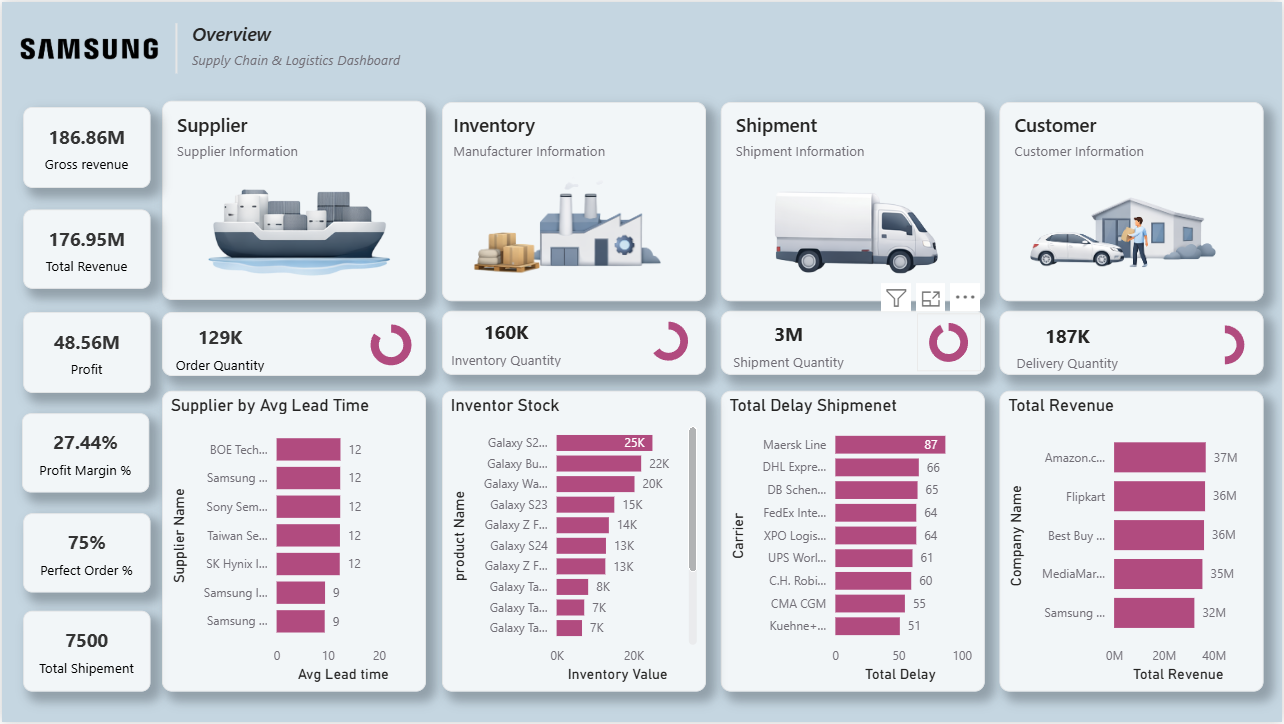

The dashboard page shown, as its layout file describes it:
{"tool":"powerbi","page":{"name":"Page 1","canvas":[1280,720],"ordinal":0},"visuals":[{"type":"shape","box":[160.2,99,264.1,199.3],"z":0},{"type":"shape","box":[440.2,100.3,264.1,199.3],"z":1000},{"type":"shape","box":[719,100.3,264.1,199.3],"z":2000},{"type":"shape","box":[997.8,100.3,264.1,199.3],"z":3000},{"type":"image","box":[185.9,159,212.8,122.3],"z":4000},{"type":"image","box":[451.2,146.7,215.2,148],"z":5000},{"type":"image","box":[756.9,152.9,188.3,141.8],"z":6000},{"type":"image","box":[1019.8,152.9,211.6,150.4],"z":7000},{"type":"shape","title":"Supplier","box":[174.6,109.5,181.2,51.2],"z":12000},{"type":"shape","title":"Inventory","box":[451.5,109.8,181.2,51.2],"z":13000},{"type":"shape","title":"Shipment","box":[733.4,109.5,181.2,51.2],"z":14000},{"type":"shape","title":"Customer","box":[1012.1,109.5,181.2,51.2],"z":15000},{"type":"shape","title":"Overview","box":[189.5,18.3,237.2,50.1],"z":16000},{"type":"shape","box":[149.2,20.8,51.4,50.1],"z":17000},{"type":"image","box":[7.3,20.8,152.9,50.1],"z":18000},{"type":"card","fields":{"Values":["MeasureTables.Total_Revenue"]},"box":[20.8,207.9,127.2,79.5],"z":19000},{"type":"card","fields":{"Values":["MeasureTables.Profit"]},"box":[20.8,310.6,127.2,80.7],"z":20000},{"type":"card","fields":{"Values":["MeasureTables.Profit_Margin_%"]},"box":[19.6,410.9,127.2,79.5],"z":21000},{"type":"card","fields":{"Values":["MeasureTables.Perfect_Order %"]},"box":[20.8,511.1,127.2,79.5],"z":22000},{"type":"card","fields":{"Values":["MeasureTables.Total_Shipement"]},"box":[20.8,609,127.2,80.7],"z":23000},{"type":"card","fields":{"Values":["Sum(fact_sales.gross_revenue)"]},"box":[20.8,105.2,127.2,80.7],"z":24000},{"type":"shape","box":[160.2,310.4,263.9,63.9],"z":25000},{"type":"shape","box":[439.7,309.2,263.9,63.9],"z":26000},{"type":"shape","box":[719.2,309.2,263.9,63.9],"z":27000},{"type":"shape","box":[997.5,309.2,263.9,63.9],"z":28000},{"type":"card","fields":{"Values":["MeasureTables.Order_QYT"]},"box":[160.1,315.7,116.2,58.7],"z":29000},{"type":"card","fields":{"Values":["MeasureTables.Inventory_Value"]},"box":[440.2,310.8,128.4,58.7],"z":30000},{"type":"card","fields":{"Values":["MeasureTables.Total_Ship_Quantity"]},"box":[722.6,313.3,128.4,58.7],"z":31000},{"type":"card","fields":{"Values":["MeasureTables.Total_Delivery_Qyt"]},"box":[1001.4,314.5,128.4,58.7],"z":32000},{"type":"clusteredBarChart","title":" Supplier by Avg Lead Time","fields":{"Y":["MeasureTables.Avg_lead_time"],"Category":["dim_supplier.supplier_name"]},"box":[160.2,388.9,264.1,300.8],"z":33000},{"type":"clusteredBarChart","title":"Total Delay Shipmenet","fields":{"Y":["MeasureTables.Total_Delay"],"Category":["fact_shipment.carrier"]},"box":[719,388.9,264.1,300.8],"z":34000},{"type":"clusteredBarChart","title":"Total Revenue","fields":{"Y":["MeasureTables.Total_Revenue"],"Category":["dim_customer.customer_name"]},"box":[997.8,388.9,264.1,300.8],"z":35000},{"type":"donutChart","fields":{"Y":["MeasureTables.Inventory_Value","MeasureTables.Safety_Stock"]},"box":[632.2,310.6,68.5,58.7],"z":36000},{"type":"donutChart","fields":{"Y":["MeasureTables.Total_Shipement","MeasureTables.Total_Delay"]},"box":[914.7,311.8,63.6,58.7],"z":37000},{"type":"donutChart","fields":{"Y":["MeasureTables.Total_Delivery_Qyt","MeasureTables.Total_Qty_Delay"]},"box":[1192.3,314.3,61.1,58.7],"z":38000},{"type":"donutChart","fields":{"Y":["MeasureTables.Order_QYT","MeasureTables.Defect_Rate"]},"box":[355.8,313,66,61.1],"z":39000},{"type":"clusteredBarChart","title":"Inventor Stock","fields":{"Y":["MeasureTables.Inventory_Value"],"Category":["dim_product.product_name"]},"box":[440,389,264,301],"z":40000}]}

Visuals, with their boxes in screenshot pixels (x1, y1, x2, y2), scaled from the page's 1280x720 canvas onto the 1284x724 screenshot:
shape: region(161, 100, 426, 300)
shape: region(442, 101, 707, 301)
shape: region(721, 101, 986, 301)
shape: region(1001, 101, 1266, 301)
image: region(186, 160, 400, 283)
image: region(453, 148, 668, 296)
image: region(759, 154, 948, 296)
image: region(1023, 154, 1235, 305)
"Supplier" shape: region(175, 110, 357, 162)
"Inventory" shape: region(453, 110, 635, 162)
"Shipment" shape: region(736, 110, 917, 162)
"Customer" shape: region(1015, 110, 1197, 162)
"Overview" shape: region(190, 18, 428, 69)
shape: region(150, 21, 201, 71)
image: region(7, 21, 161, 71)
card - MeasureTables.Total_Revenue: region(21, 209, 148, 289)
card - MeasureTables.Profit: region(21, 312, 148, 393)
card - MeasureTables.Profit_Margin_%: region(20, 413, 147, 493)
card - MeasureTables.Perfect_Order %: region(21, 514, 148, 594)
card - MeasureTables.Total_Shipement: region(21, 612, 148, 694)
card - Sum(fact_sales.gross_revenue): region(21, 106, 148, 187)
shape: region(161, 312, 425, 376)
shape: region(441, 311, 706, 375)
shape: region(721, 311, 986, 375)
shape: region(1001, 311, 1265, 375)
card - MeasureTables.Order_QYT: region(161, 317, 277, 376)
card - MeasureTables.Inventory_Value: region(442, 313, 570, 372)
card - MeasureTables.Total_Ship_Quantity: region(725, 315, 854, 374)
card - MeasureTables.Total_Delivery_Qyt: region(1005, 316, 1133, 375)
" Supplier by Avg Lead Time" clusteredBarChart: region(161, 391, 426, 694)
"Total Delay Shipmenet" clusteredBarChart: region(721, 391, 986, 694)
"Total Revenue" clusteredBarChart: region(1001, 391, 1266, 694)
donutChart - MeasureTables.Inventory_Value x MeasureTables.Safety_Stock: region(634, 312, 703, 371)
donutChart - MeasureTables.Total_Shipement x MeasureTables.Total_Delay: region(918, 314, 981, 373)
donutChart - MeasureTables.Total_Delivery_Qyt x MeasureTables.Total_Qty_Delay: region(1196, 316, 1257, 375)
donutChart - MeasureTables.Order_QYT x MeasureTables.Defect_Rate: region(357, 315, 423, 376)
"Inventor Stock" clusteredBarChart: region(441, 391, 706, 694)
